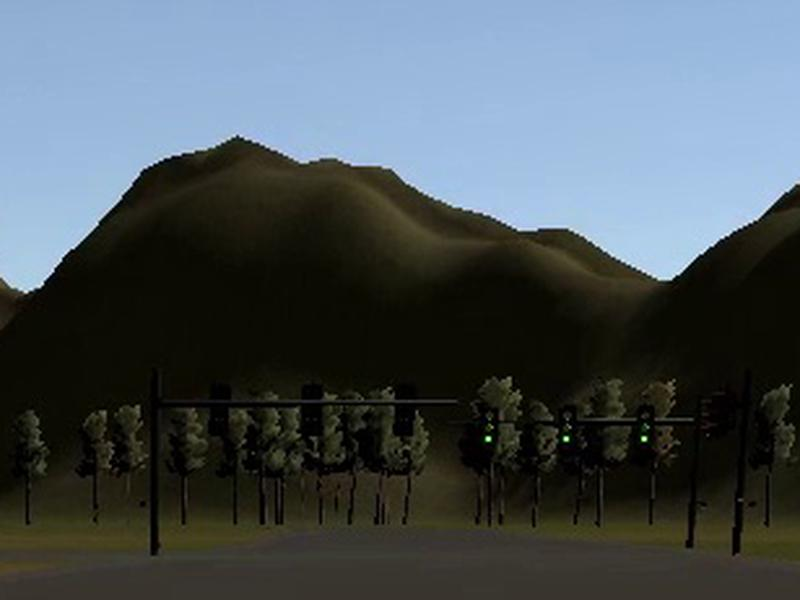Green: (637, 404, 655, 447), (559, 408, 577, 446), (482, 408, 499, 445)
